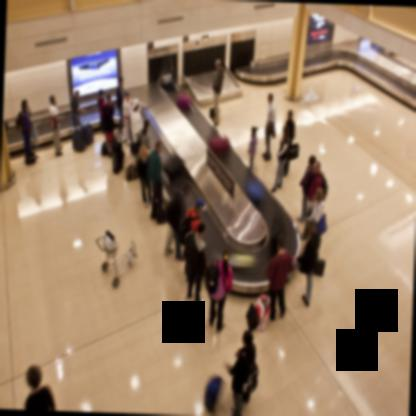backpack: (178, 207, 199, 246), (165, 199, 182, 236), (242, 363, 259, 397), (205, 259, 220, 295), (185, 241, 197, 281), (15, 111, 22, 130), (322, 176, 327, 200)
handbag: (255, 293, 271, 331), (210, 262, 225, 301), (287, 123, 299, 161), (125, 162, 140, 182), (246, 303, 257, 330), (318, 207, 328, 235), (133, 130, 141, 155), (50, 116, 60, 130)
suitcase: (205, 363, 232, 416), (163, 151, 187, 183), (72, 112, 87, 155), (271, 209, 286, 251), (207, 133, 229, 158), (111, 138, 124, 173), (82, 112, 94, 146), (248, 180, 265, 202), (176, 90, 190, 111), (160, 69, 175, 87), (314, 258, 327, 277)
